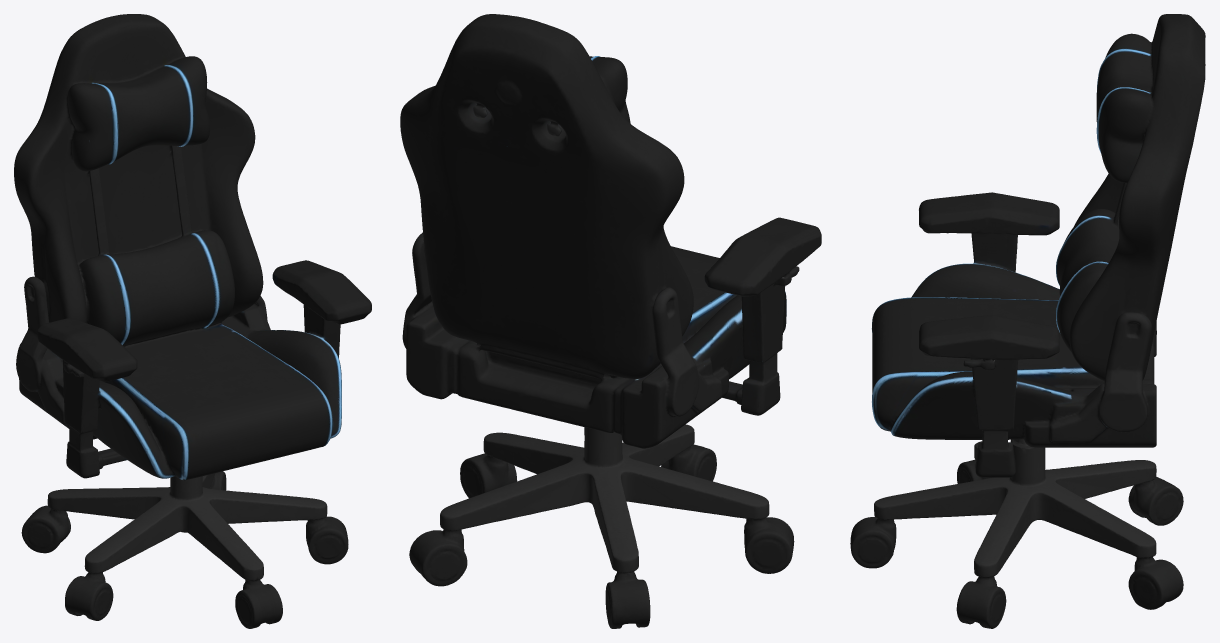
The model's file is GamingChair.glb.
3 renders of one model, left to right at view 1: azimuth 30°, elevation 25°; view 2: azimuth 150°, elevation 25°; view 3: azimuth 270°, elevation 25°, orthographic. The views are drawn at different scales.
Bounding box in the file's own units: 1.12 × 1.9 × 1.14.
Materials: 1 (1 with a texture image).
